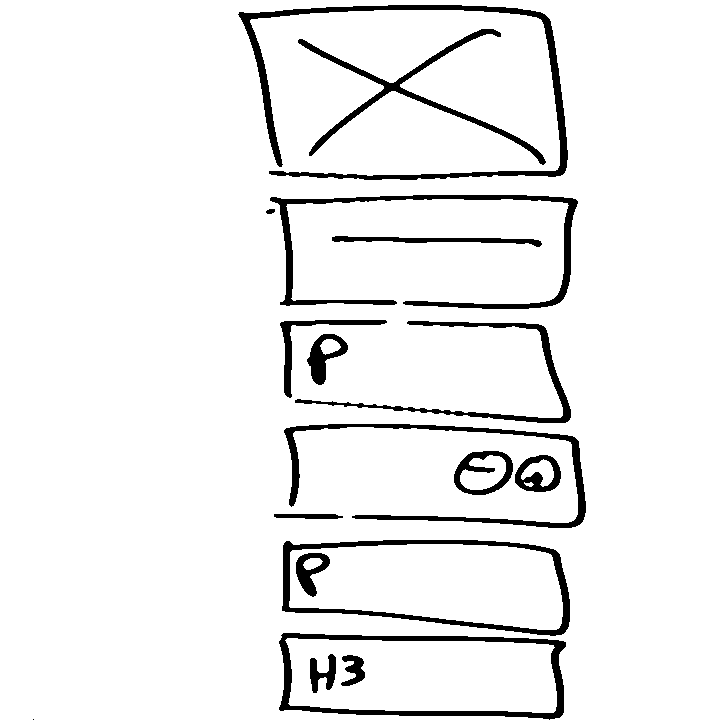button: (262, 190, 579, 315)
heading3: (272, 632, 572, 720)
inline stepper bar: (270, 423, 594, 532)
paragraph: (275, 314, 575, 426), (278, 538, 577, 637)
picture: (232, 4, 576, 183)
